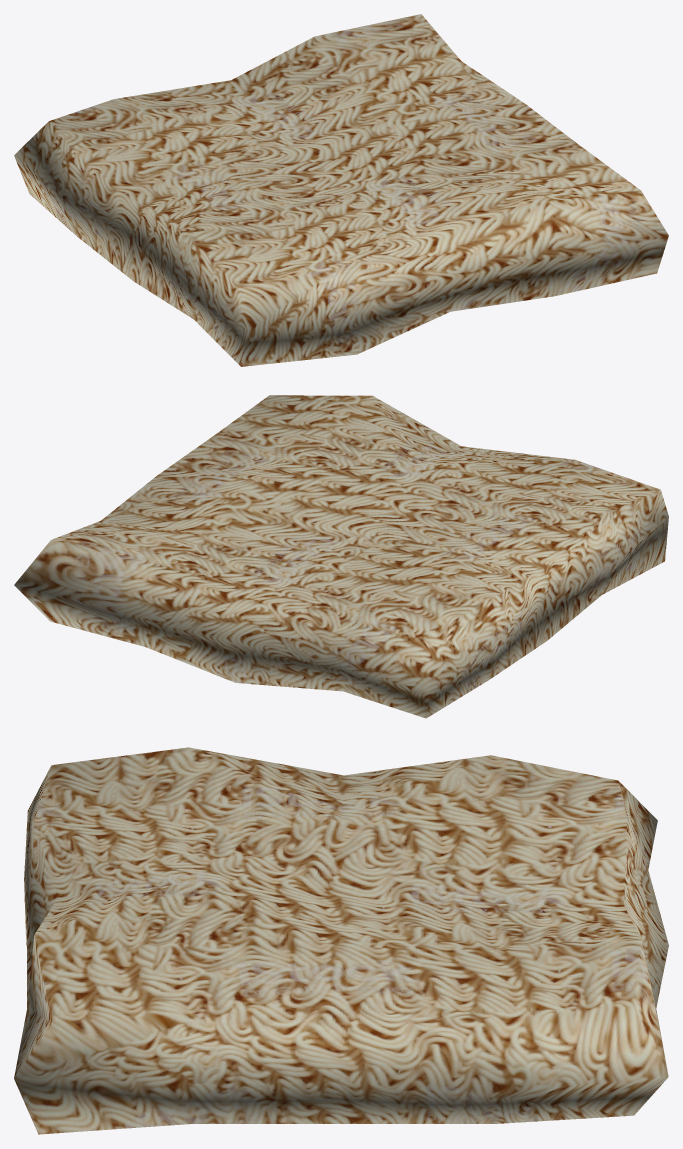
The model's file is NoodlesRaw.glb.
3 renders of one model, top to bottom at view 1: azimuth 30°, elevation 25°; view 2: azimuth 150°, elevation 25°; view 3: azimuth 270°, elevation 25°, orthographic. The views are drawn at different scales.
Parts seen in each view (by area): view 1: NoodlesRaw; view 2: NoodlesRaw; view 3: NoodlesRaw.
Part boxes in pixels (x1,y1,x2,y2): NoodlesRaw: (14, 14, 668, 366); NoodlesRaw: (14, 395, 668, 718); NoodlesRaw: (14, 747, 668, 1134).
Bounding box in the file's own units: 0.3271 × 0.077 × 0.3237.
1 material, 1 textured.
